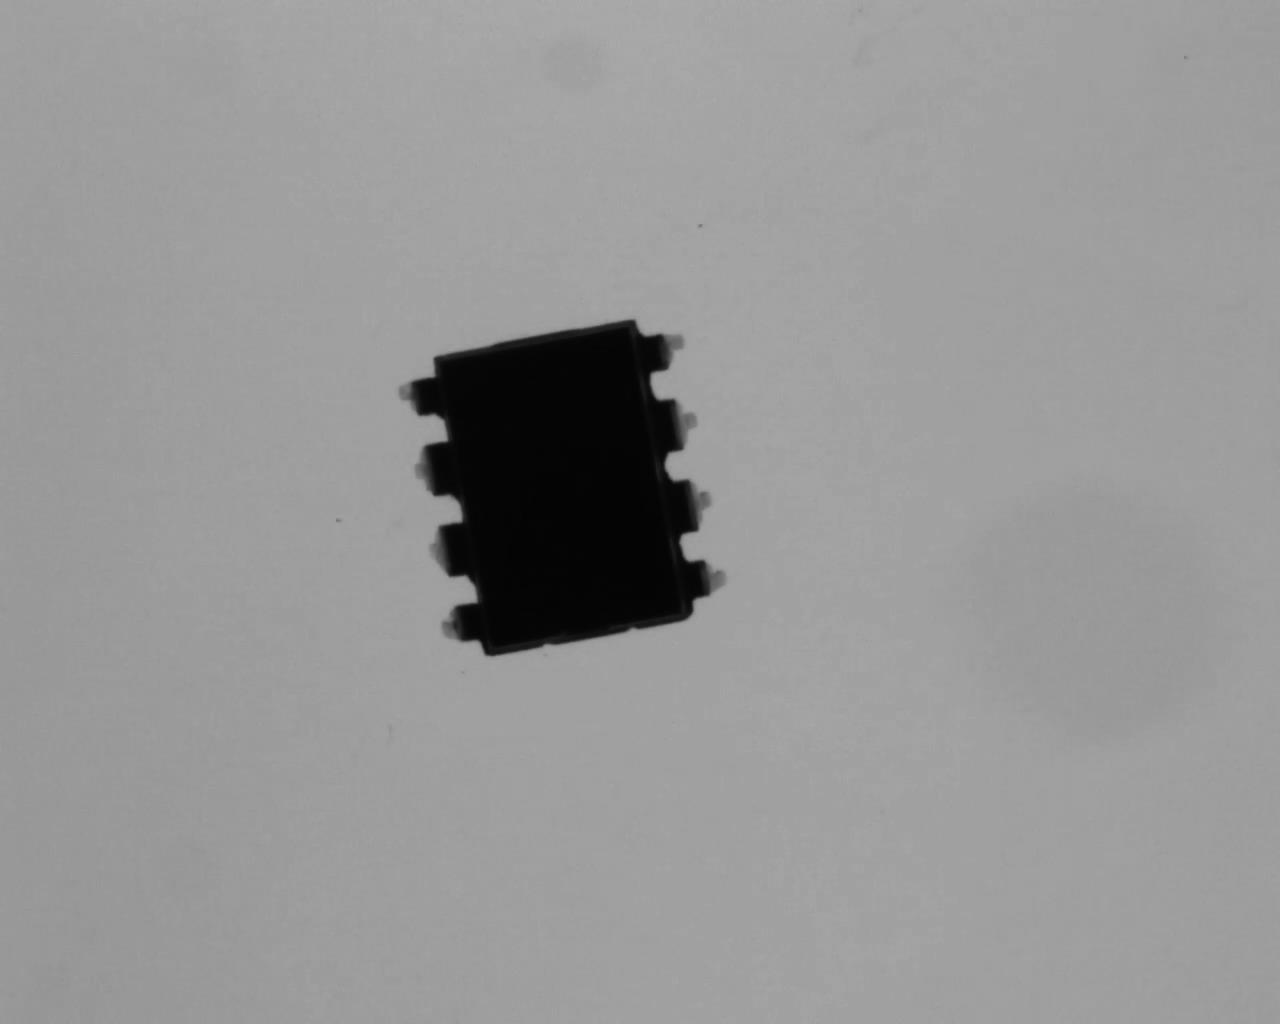Leg: (398, 436, 466, 503), (412, 514, 478, 579), (645, 393, 704, 459), (665, 475, 722, 541), (387, 376, 461, 423), (434, 595, 489, 656), (636, 328, 693, 378), (683, 554, 730, 604)
